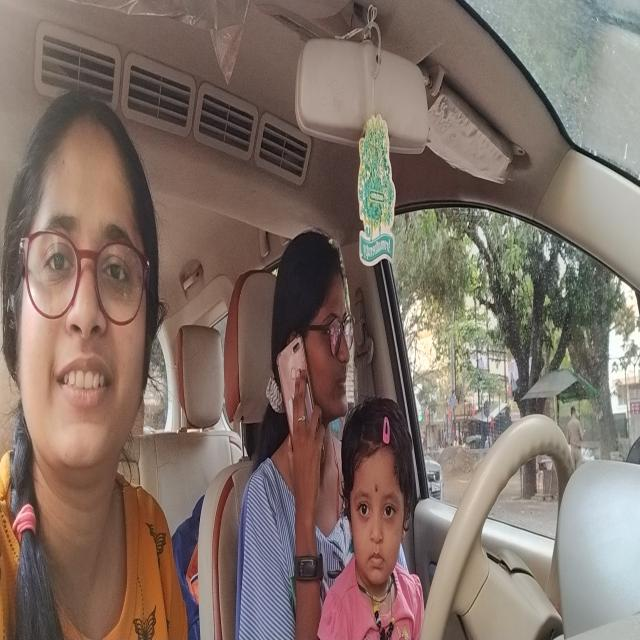child: (342, 396, 415, 602)
mobile: (276, 336, 316, 458)
person: (1, 78, 168, 485), (271, 225, 353, 432)
